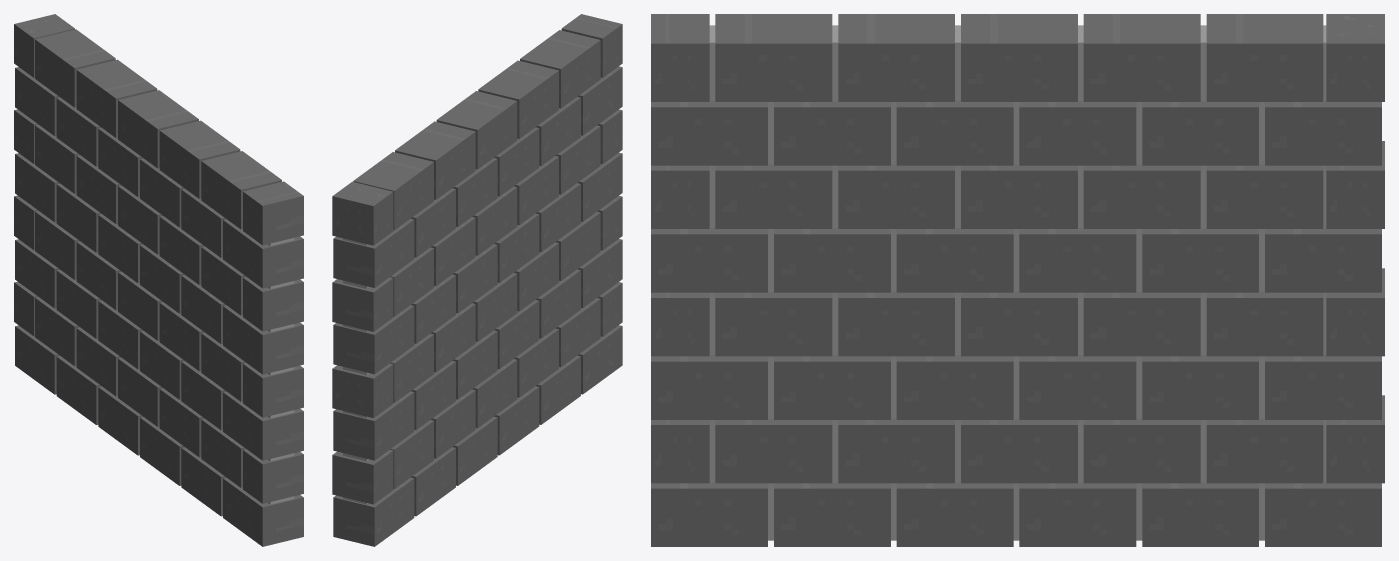
File: stoneHigh.gltf
3 views of the same model, side by side, from view 1: azimuth 30°, elevation 25°; view 2: azimuth 150°, elevation 25°; view 3: azimuth 270°, elevation 25° (orthographic). The views are drawn at different scales.
Visible parts, largest first — view 1: f854de32-a6ed-8693-3eb7-52b9c090b417, 56214a05-6d24-e01a-dc8f-82b54086e2e1, d969f419-1da8-2d59-4c13-7b0baa0d11e7, f843dae4-e07a-227d-246b-136fa64b4baf, 18480742-09a7-1449-d036-ea4a5774f2f4, ec66c054-a8a9-e416-987b-df65a9142706, e556e383-f5e7-fec7-8e1e-338877bde1b2, dcf0f006-2568-998e-1612-340f355ca8d8, 3926385e-f900-c3a5-14be-7e9ae2db5397, 61beea1c-36fb-cb52-e764-e2dde2543fd2, 5172fe5d-35c4-1919-4a1d-82f836e2ae86, f037959b-6c08-7d71-f331-f2f5f7b50da1 (+41 smaller); view 2: 8c9547a4-6cfe-3b33-f7dd-0b01437e574d, 20110de2-0eaa-2146-66e6-fecb5fcfa3ac, ef5f31d5-edcd-39b5-93b6-b72d7bb655fc, d9eb7762-2012-ce56-8ed0-a238db57cee8, dcf0f006-2568-998e-1612-340f355ca8d8, 18480742-09a7-1449-d036-ea4a5774f2f4, e556e383-f5e7-fec7-8e1e-338877bde1b2, 3926385e-f900-c3a5-14be-7e9ae2db5397, ec66c054-a8a9-e416-987b-df65a9142706, 829aec77-8d3f-220b-bd7d-4ed821407500, 7f52b1c0-36b3-bb95-d875-82334a87e30d, 83dfcefb-34c9-2f07-0e95-30a3d569668a (+41 smaller); view 3: e564257e-c5ff-6dab-8c20-85fd39a04b1c, 3926385e-f900-c3a5-14be-7e9ae2db5397, ec66c054-a8a9-e416-987b-df65a9142706, e556e383-f5e7-fec7-8e1e-338877bde1b2, 18480742-09a7-1449-d036-ea4a5774f2f4, dcf0f006-2568-998e-1612-340f355ca8d8, 23d790cb-4938-bc73-8044-490429eaa434, 602156ae-d227-edd6-1acf-f587a206bdec, 13a60c67-087c-6ded-8c8b-94abe4ad8ccb, 54ba0bce-24c0-4f96-cc98-a8d490f2ad0d, cae2502d-4ed4-7a94-b1fa-5044ba097710, 0763d223-c02a-e3a8-7f01-265fa797bd91 (+41 smaller).
Part boxes in pixels (left/top/right/bottom): f854de32-a6ed-8693-3eb7-52b9c090b417: left=223, top=219, right=303, bottom=288; 56214a05-6d24-e01a-dc8f-82b54086e2e1: left=223, top=477, right=303, bottom=546; d969f419-1da8-2d59-4c13-7b0baa0d11e7: left=223, top=391, right=303, bottom=460; f843dae4-e07a-227d-246b-136fa64b4baf: left=223, top=305, right=303, bottom=374; 18480742-09a7-1449-d036-ea4a5774f2f4: left=159, top=120, right=240, bottom=198; ec66c054-a8a9-e416-987b-df65a9142706: left=35, top=29, right=115, bottom=107; e556e383-f5e7-fec7-8e1e-338877bde1b2: left=201, top=151, right=281, bottom=229; dcf0f006-2568-998e-1612-340f355ca8d8: left=118, top=90, right=198, bottom=168; 3926385e-f900-c3a5-14be-7e9ae2db5397: left=76, top=59, right=157, bottom=137; 61beea1c-36fb-cb52-e764-e2dde2543fd2: left=243, top=181, right=303, bottom=245; 5172fe5d-35c4-1919-4a1d-82f836e2ae86: left=243, top=276, right=303, bottom=331; f037959b-6c08-7d71-f331-f2f5f7b50da1: left=243, top=363, right=303, bottom=417; 8c9547a4-6cfe-3b33-f7dd-0b01437e574d: left=333, top=218, right=414, bottom=287; 20110de2-0eaa-2146-66e6-fecb5fcfa3ac: left=333, top=305, right=414, bottom=374; ef5f31d5-edcd-39b5-93b6-b72d7bb655fc: left=333, top=477, right=414, bottom=546; d9eb7762-2012-ce56-8ed0-a238db57cee8: left=333, top=391, right=414, bottom=460; dcf0f006-2568-998e-1612-340f355ca8d8: left=436, top=91, right=517, bottom=169; 18480742-09a7-1449-d036-ea4a5774f2f4: left=478, top=60, right=558, bottom=138; e556e383-f5e7-fec7-8e1e-338877bde1b2: left=520, top=30, right=600, bottom=108; 3926385e-f900-c3a5-14be-7e9ae2db5397: left=395, top=121, right=475, bottom=199; ec66c054-a8a9-e416-987b-df65a9142706: left=353, top=152, right=433, bottom=230; 829aec77-8d3f-220b-bd7d-4ed821407500: left=332, top=181, right=393, bottom=245; 7f52b1c0-36b3-bb95-d875-82334a87e30d: left=332, top=363, right=393, bottom=418; 83dfcefb-34c9-2f07-0e95-30a3d569668a: left=332, top=449, right=393, bottom=504; e564257e-c5ff-6dab-8c20-85fd39a04b1c: left=709, top=25, right=1326, bottom=540; 3926385e-f900-c3a5-14be-7e9ae2db5397: left=1083, top=14, right=1200, bottom=101; ec66c054-a8a9-e416-987b-df65a9142706: left=1206, top=14, right=1323, bottom=101; e556e383-f5e7-fec7-8e1e-338877bde1b2: left=715, top=14, right=832, bottom=101; 18480742-09a7-1449-d036-ea4a5774f2f4: left=838, top=14, right=954, bottom=101; dcf0f006-2568-998e-1612-340f355ca8d8: left=961, top=14, right=1077, bottom=101; 23d790cb-4938-bc73-8044-490429eaa434: left=1083, top=291, right=1200, bottom=356; 602156ae-d227-edd6-1acf-f587a206bdec: left=715, top=291, right=832, bottom=356; 13a60c67-087c-6ded-8c8b-94abe4ad8ccb: left=1206, top=291, right=1323, bottom=356; 54ba0bce-24c0-4f96-cc98-a8d490f2ad0d: left=838, top=291, right=954, bottom=356; cae2502d-4ed4-7a94-b1fa-5044ba097710: left=961, top=291, right=1077, bottom=356; 0763d223-c02a-e3a8-7f01-265fa797bd91: left=1019, top=101, right=1136, bottom=165.
Size of the model in its own units: 0.15 by 1.19 by 1.57.
Materials: 2 (2 with a texture image).
